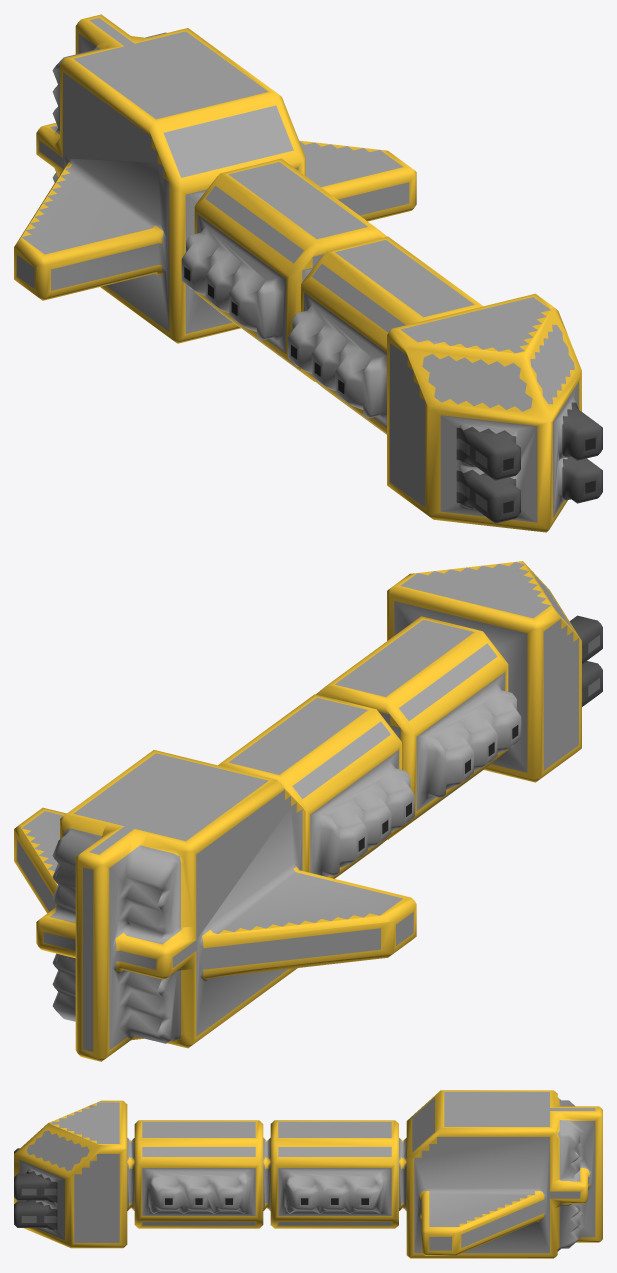
The model's file is mechyrdia-3-kaiserswelt-class.obj.
The picture shows the model from 3 angles, top to bottom: view 1: azimuth 30°, elevation 25°; view 2: azimuth 150°, elevation 25°; view 3: azimuth 270°, elevation 25°; orthographic projection. The views are drawn at different scales.
Bounding box in the file's own units: 37 × 19 × 78.
Materials: 1 (1 with a texture image).
